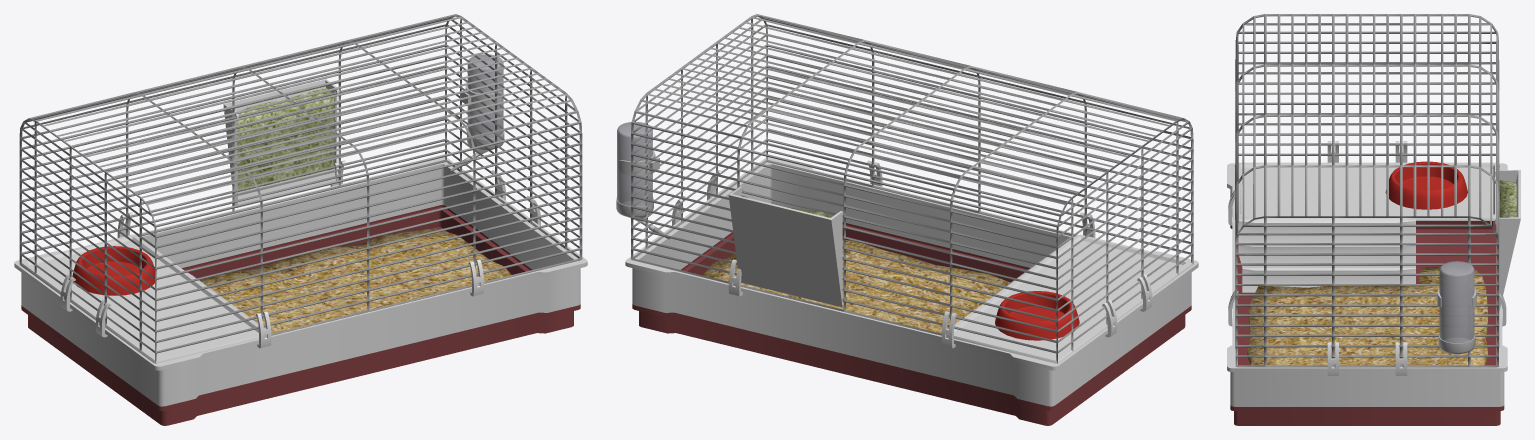
File: sweethome3d-scopia-rabbit-cage.glb
The picture shows the model from 3 angles, left to right: view 1: azimuth 30°, elevation 25°; view 2: azimuth 150°, elevation 25°; view 3: azimuth 270°, elevation 25°; orthographic projection. The views are drawn at different scales.
Visible parts, largest first — view 1: Cage_Cube.007, Base, Lit_Plane.001, Plateforme_Cube, Fourrage_Plane.002, Mangeoire__Circle, RecipientFourrage_Plane, Crochets_Cube.004, Recipient_Cylinder.003, RecipientBec_Cylinder.002; view 2: Cage_Cube.007, Base, Plateforme_Cube, RecipientFourrage_Plane, Lit_Plane.001, Mangeoire__Circle, Crochets_Cube.004, Recipient_Cylinder.003, RecipientBec_Cylinder.002; view 3: Cage_Cube.007, Base, Plateforme_Cube, Lit_Plane.001, Recipient_Cylinder.003, Mangeoire__Circle, Crochets_Cube.004, RecipientFourrage_Plane, RecipientBec_Cylinder.002, Fourrage_Plane.002.
Part boxes in pixels (bbox=[...]): Cage_Cube.007: bbox=[19, 14, 582, 363]; Base: bbox=[14, 157, 587, 425]; Lit_Plane.001: bbox=[199, 228, 511, 333]; Plateforme_Cube: bbox=[20, 234, 264, 363]; Fourrage_Plane.002: bbox=[237, 87, 334, 192]; Mangeoire__Circle: bbox=[72, 246, 154, 295]; RecipientFourrage_Plane: bbox=[223, 79, 339, 207]; Crochets_Cube.004: bbox=[60, 160, 540, 348]; Recipient_Cylinder.003: bbox=[467, 54, 503, 138]; RecipientBec_Cylinder.002: bbox=[450, 125, 504, 171]; Cage_Cube.007: bbox=[631, 14, 1193, 363]; Base: bbox=[625, 157, 1198, 425]; Plateforme_Cube: bbox=[954, 234, 1192, 363]; RecipientFourrage_Plane: bbox=[728, 186, 843, 307]; Lit_Plane.001: bbox=[703, 239, 1009, 333]; Mangeoire__Circle: bbox=[995, 291, 1079, 340]; Crochets_Cube.004: bbox=[672, 160, 1152, 348]; Recipient_Cylinder.003: bbox=[617, 122, 652, 206]; RecipientBec_Cylinder.002: bbox=[616, 192, 669, 239]; Cage_Cube.007: bbox=[1235, 14, 1499, 367]; Base: bbox=[1227, 163, 1507, 425]; Plateforme_Cube: bbox=[1235, 162, 1499, 292]; Lit_Plane.001: bbox=[1247, 267, 1488, 365]; Recipient_Cylinder.003: bbox=[1439, 261, 1474, 343]; Mangeoire__Circle: bbox=[1385, 161, 1467, 209]; Crochets_Cube.004: bbox=[1228, 141, 1506, 375]; RecipientFourrage_Plane: bbox=[1495, 170, 1520, 310]; RecipientBec_Cylinder.002: bbox=[1438, 329, 1475, 354]; Fourrage_Plane.002: bbox=[1499, 180, 1516, 217].
Size of the model in its own units: 102 by 46.11 by 57.57.
Materials: 13 (2 with a texture image).
